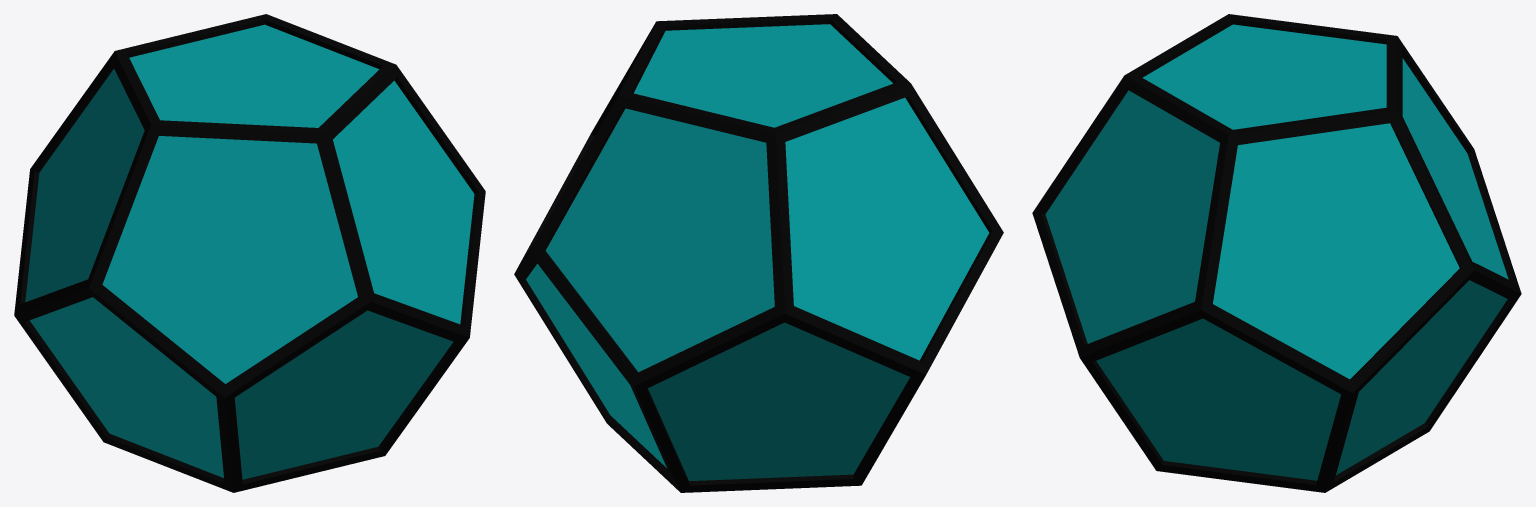
File: SFI0210001.fbx
3 views of the same model, side by side, from view 1: azimuth 30°, elevation 25°; view 2: azimuth 150°, elevation 25°; view 3: azimuth 270°, elevation 25° (orthographic). The views are drawn at different scales.
Parts seen in each view (by area): view 1: smSFI0210001; view 2: smSFI0210001; view 3: smSFI0210001.
Boxes of the visible parts, box(x1,y1,x2,y2) form: smSFI0210001: box(14, 14, 485, 492); smSFI0210001: box(514, 14, 1003, 492); smSFI0210001: box(1032, 14, 1521, 492).
Bounding box in the file's own units: 132 × 113 × 139.
